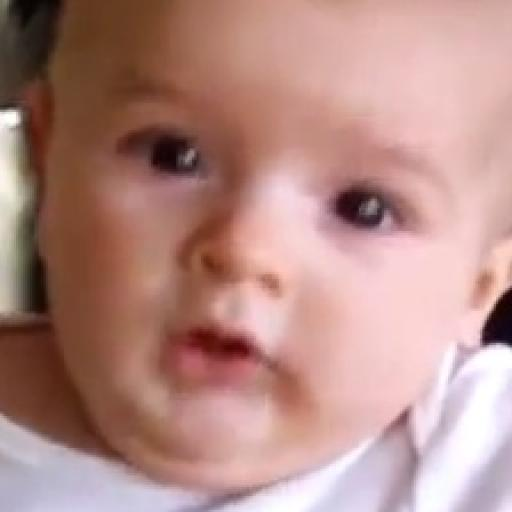Autism: (49, 38, 512, 474)
